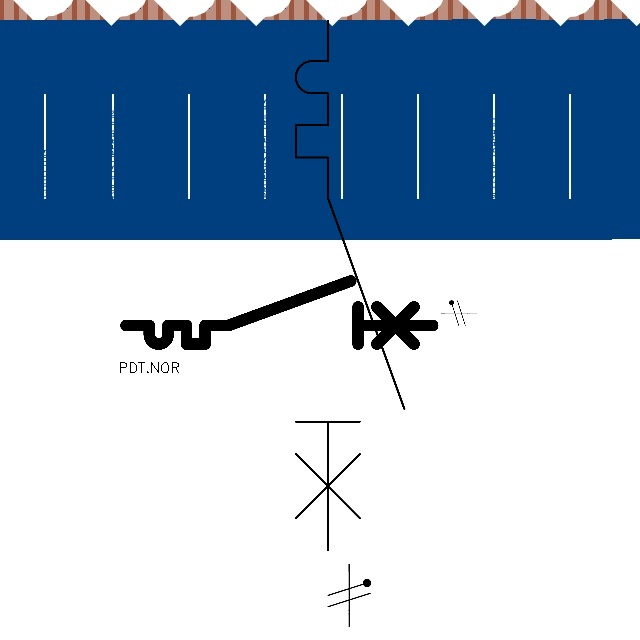interruptor_termomagnetico: (282, 7, 418, 564), (118, 273, 441, 352)
